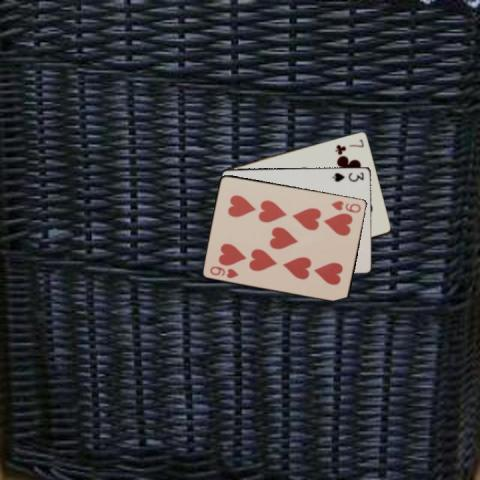3s: (330, 169, 365, 183)
7c: (332, 136, 365, 155)
9h: (329, 197, 362, 214), (207, 263, 240, 279)
